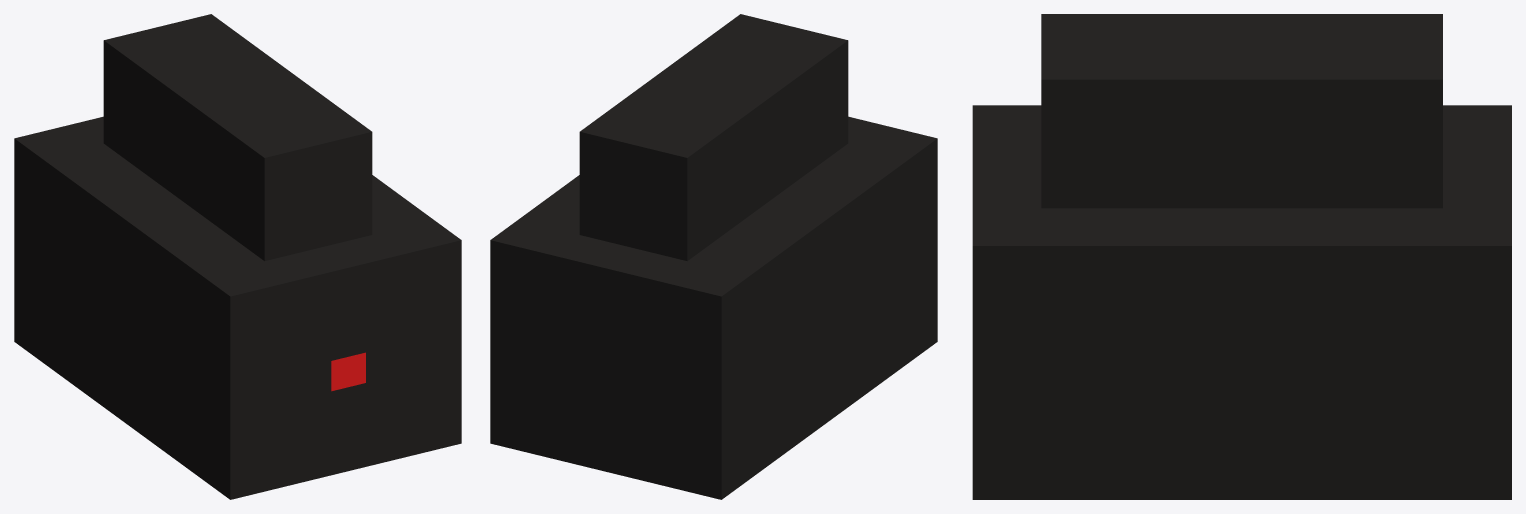
The model's file is Pistol_LaserSight.FBX.
The picture shows the model from 3 angles, left to right: view 1: azimuth 30°, elevation 25°; view 2: azimuth 150°, elevation 25°; view 3: azimuth 270°, elevation 25°; orthographic projection. The views are drawn at different scales.
Parts seen in each view (by area): view 1: Pistol_LaserSight; view 2: Pistol_LaserSight; view 3: Pistol_LaserSight.
Part boxes in pixels (bbox=[...]): Pistol_LaserSight: bbox=[14, 14, 461, 499]; Pistol_LaserSight: bbox=[490, 14, 937, 499]; Pistol_LaserSight: bbox=[972, 14, 1511, 499].
Size of the model in its own units: 6.15 by 10.07 by 7.79.
